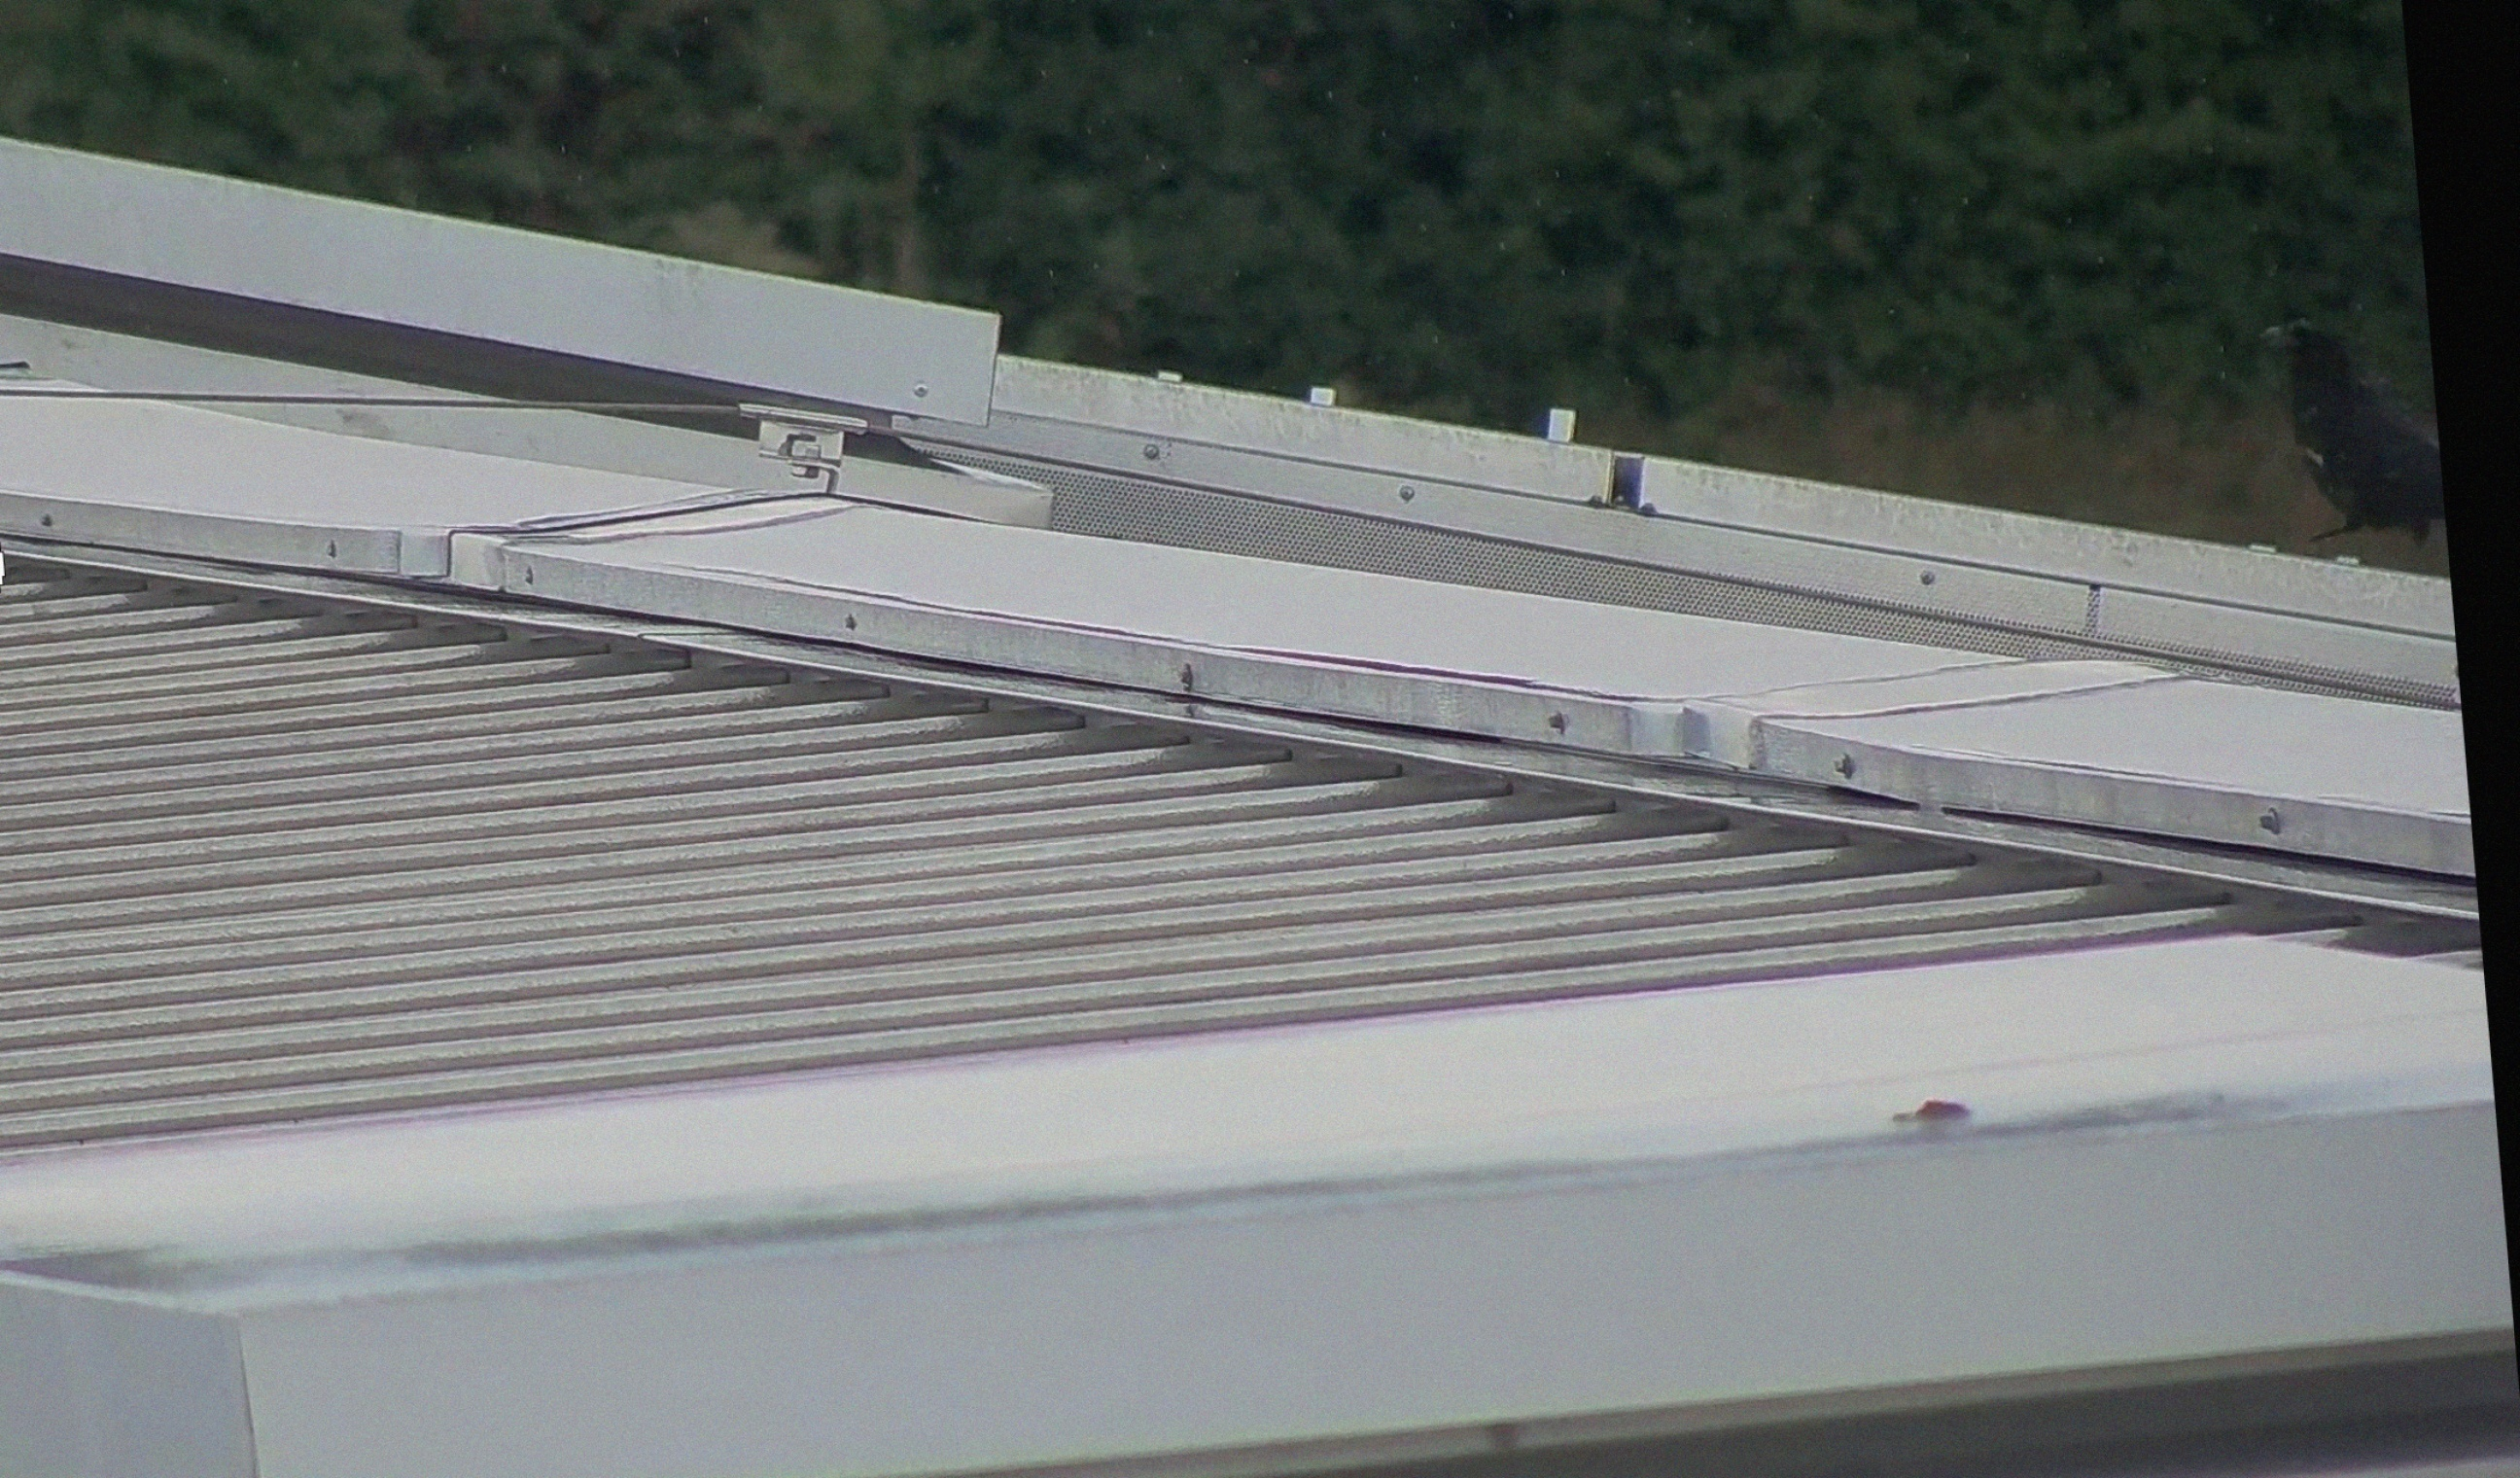Other: (2261, 303, 2448, 544)
